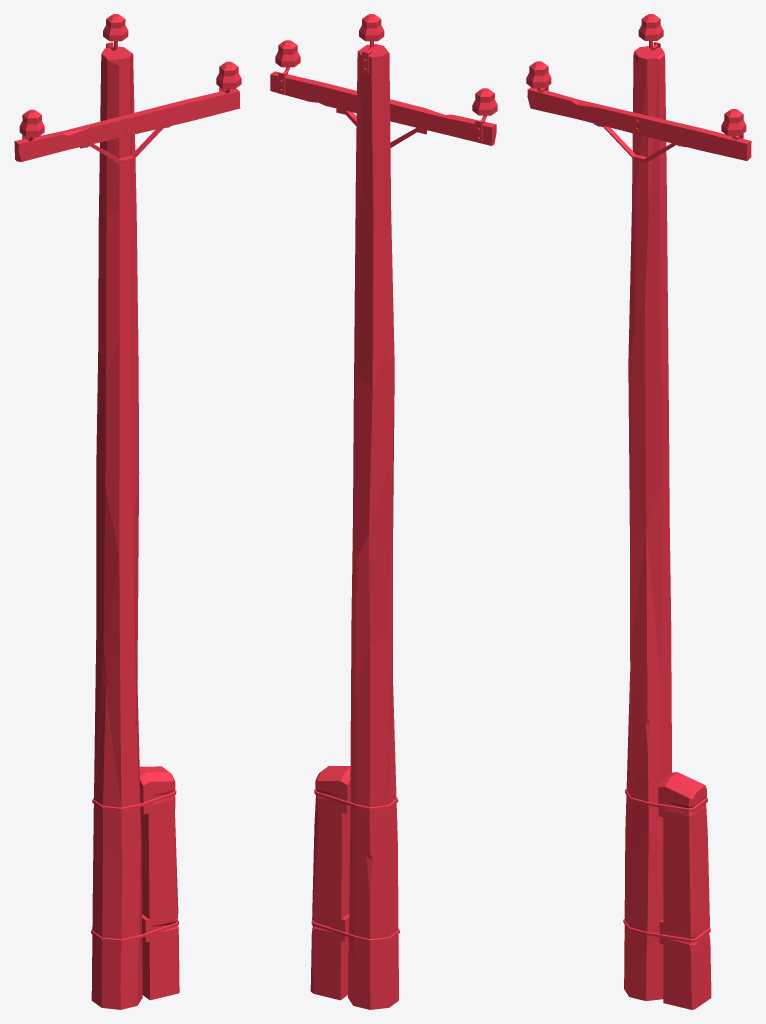
The model's file is SM_Pole_Electric_Old.fbx.
The picture shows the model from 3 angles, left to right: view 1: azimuth 30°, elevation 25°; view 2: azimuth 150°, elevation 25°; view 3: azimuth 330°, elevation 25°; orthographic projection.
Parts seen in each view (by area): view 1: pole-electric-old; view 2: pole-electric-old; view 3: pole-electric-old.
Boxes of the visible parts, x1=… form: pole-electric-old: x1=14, y1=14, x2=241, y2=1009; pole-electric-old: x1=270, y1=14, x2=497, y2=1009; pole-electric-old: x1=526, y1=14, x2=751, y2=1009.
Bounding box in the file's own units: 1.74 × 7.37 × 0.4322.
